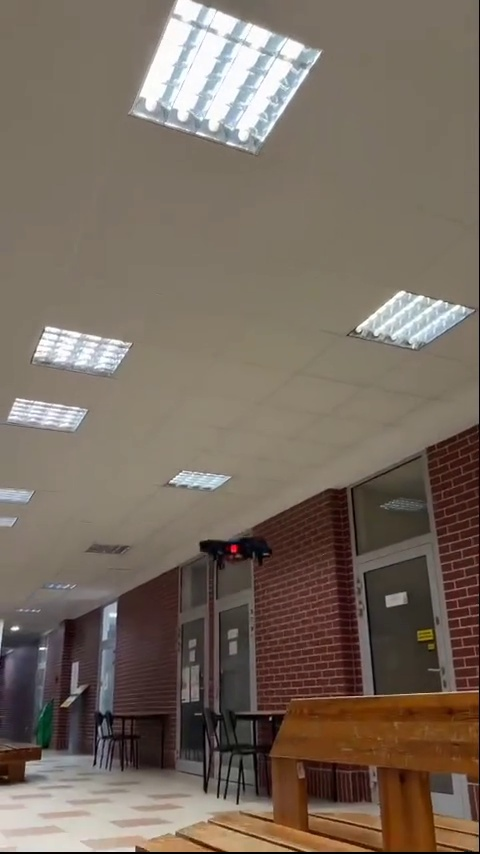drone: (198, 538, 276, 574)
